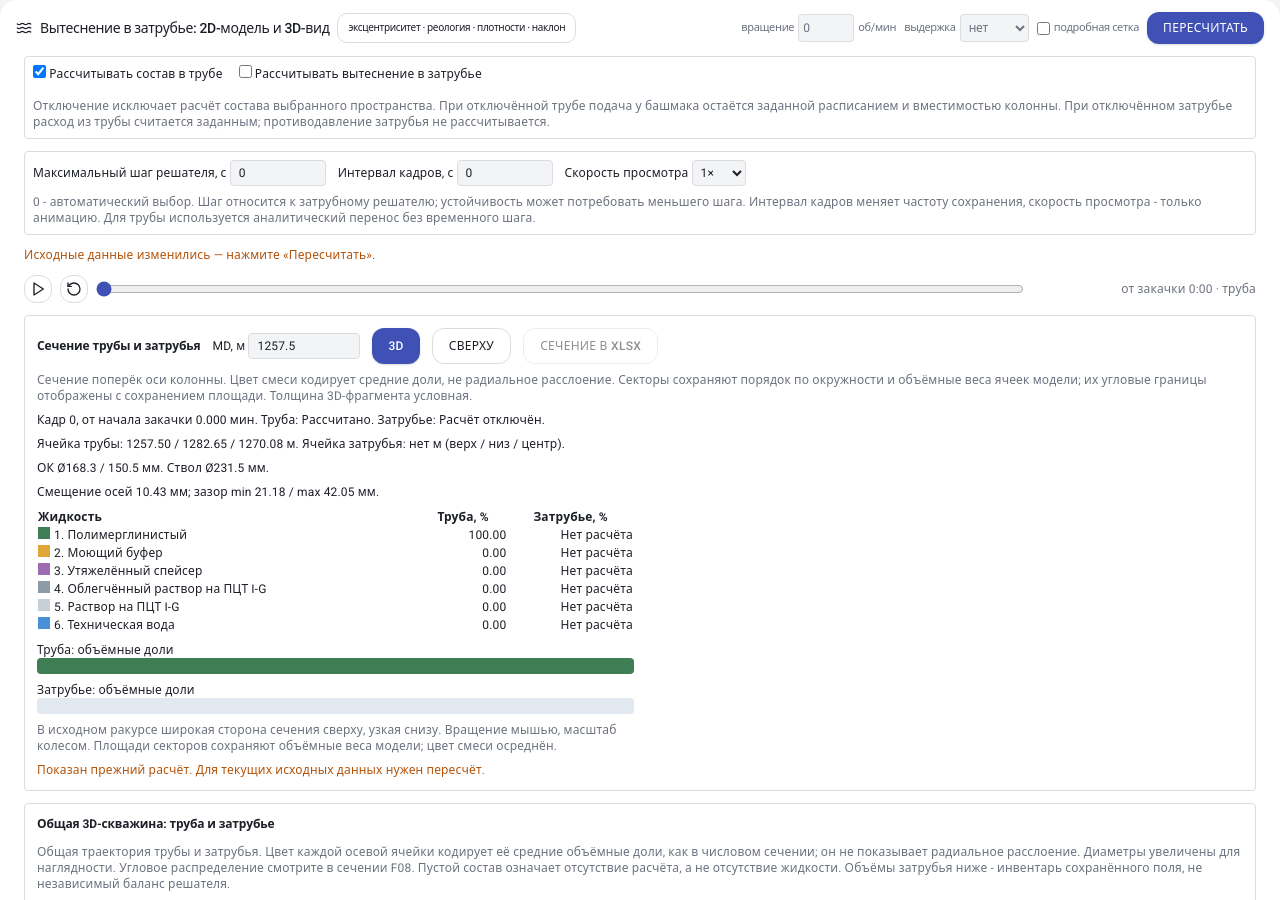
Test: renders pipe-only output, and requires recalculation when space settings change
The image size is (1280, 900).
Click the checkbox labelled "Рассчитывать состав в трубе". click: click(40, 72)
box: [33,65,46,78]
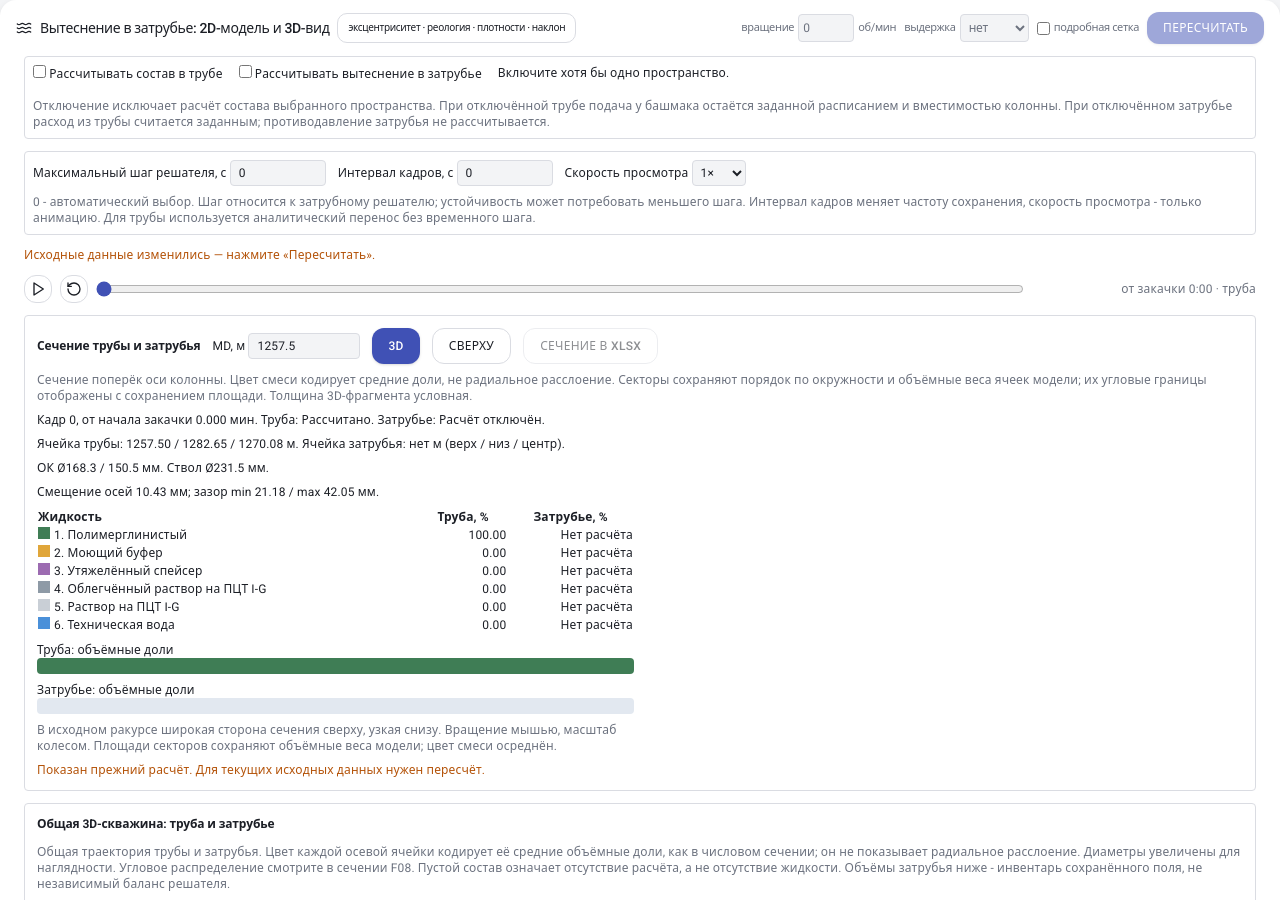
Expected: the message shows "хотя бы одно", [498,66,729,80]
Expected: the button with test id "d2-run" is disabled, [1147,12,1264,44]
Click the checkbox labelled "Рассчитывать вытеснение в затрубье". click: click(245, 72)
box: [239,65,252,78]
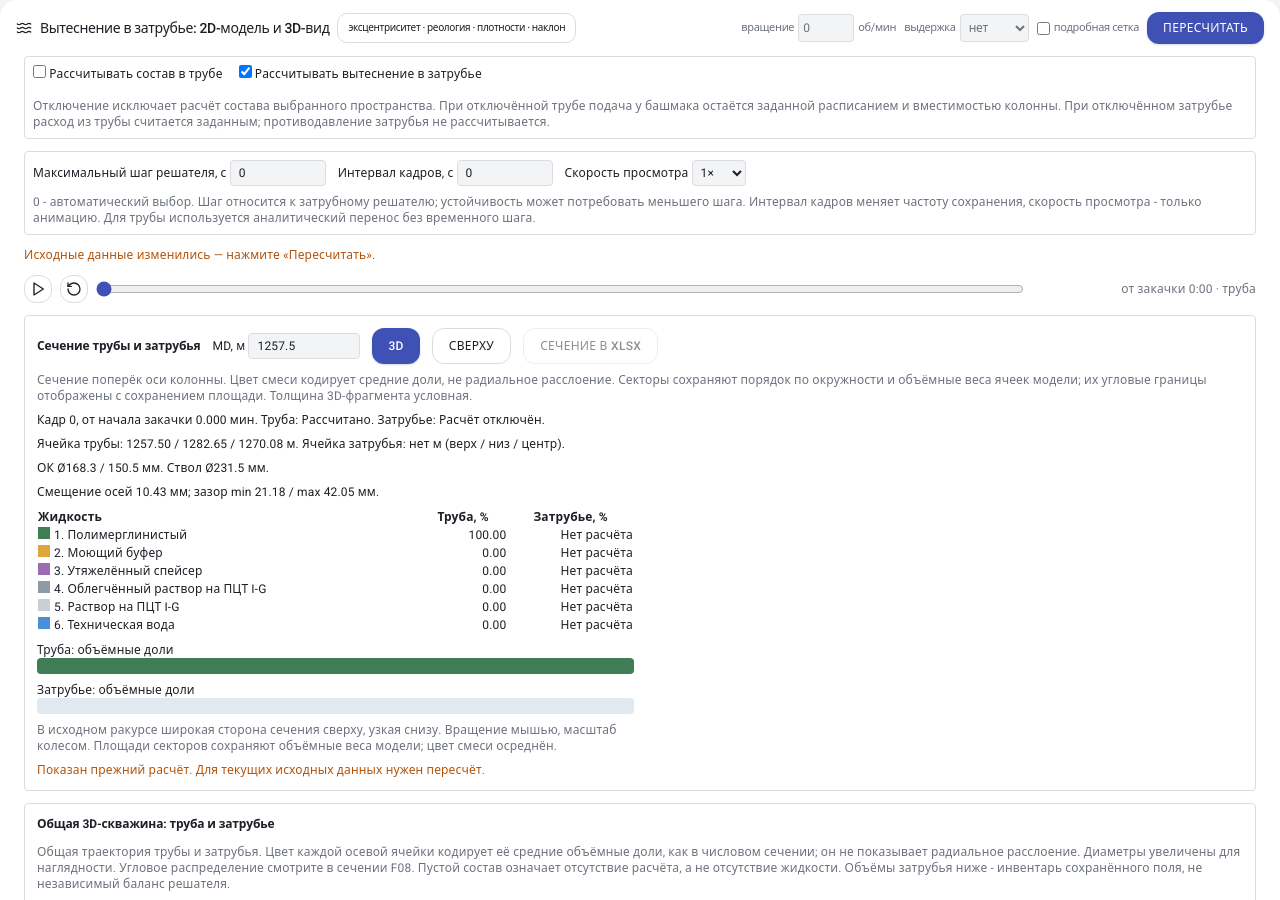
Expected: the button with test id "d2-run" is enabled, [1147,12,1264,44]
